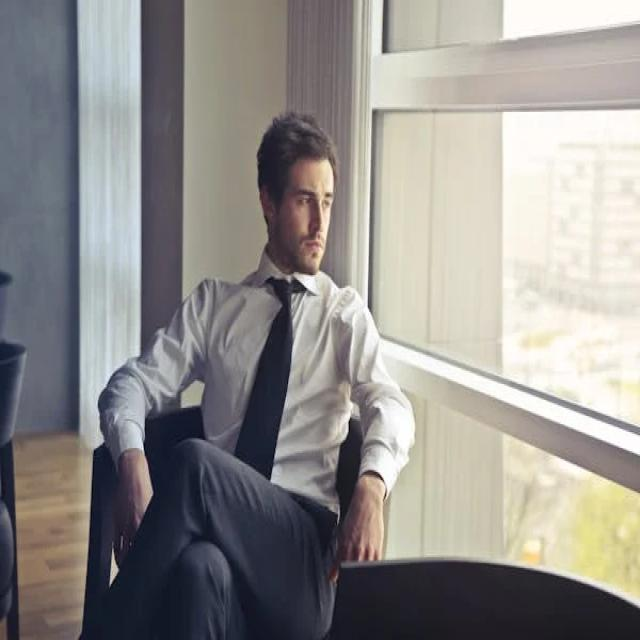Real human 2: (88, 97, 407, 640)
